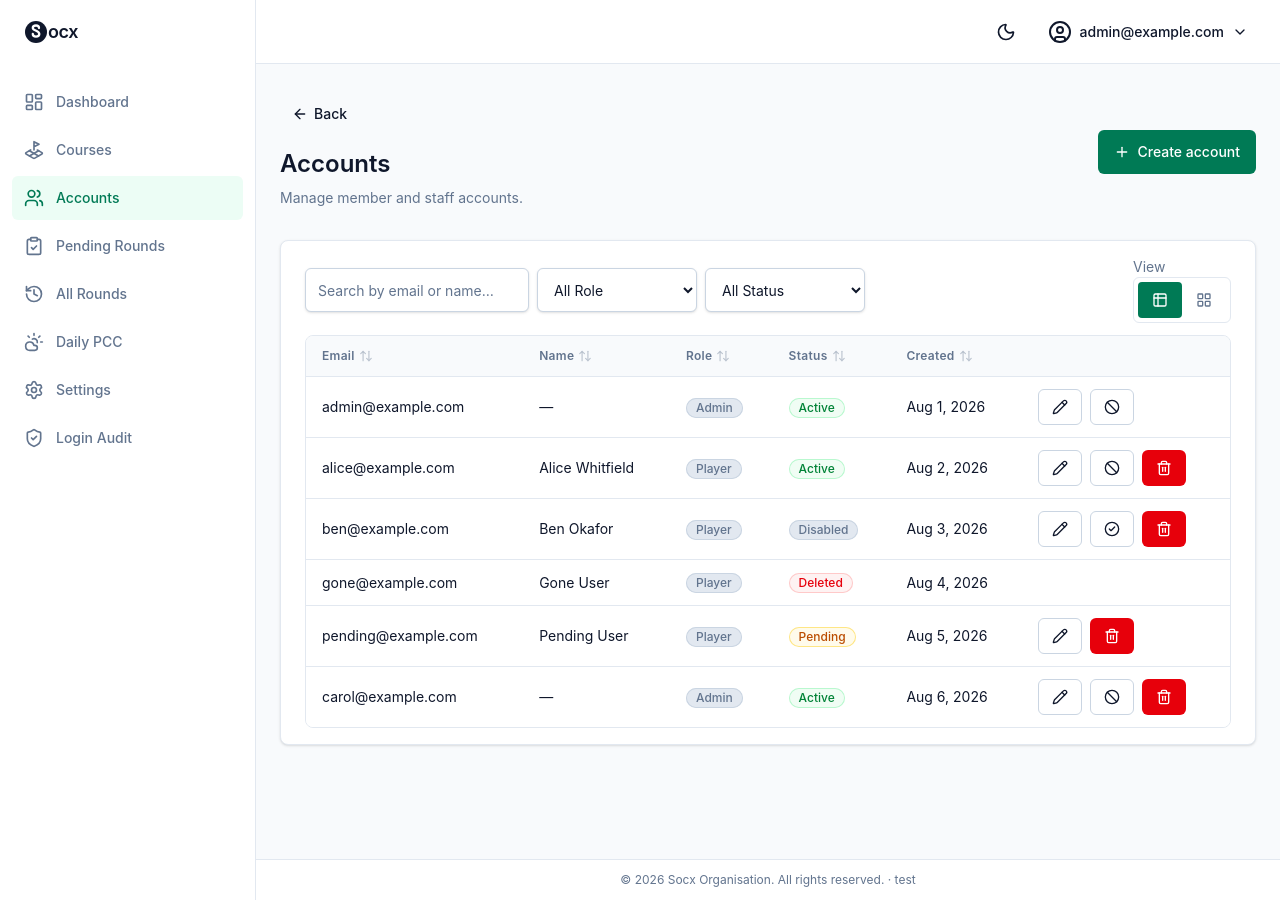
AdminAccountsPage › Edit account (ghs#191) › a super_admin editing another admin/super_admin's row sees a role selector, and submitting sends the selected role
Check: the text "carol@example.com" is shown, box [306, 666, 523, 727]
Click the button named "Edit carol@example.com".
click(1060, 697)  # box [1038, 679, 1082, 715]
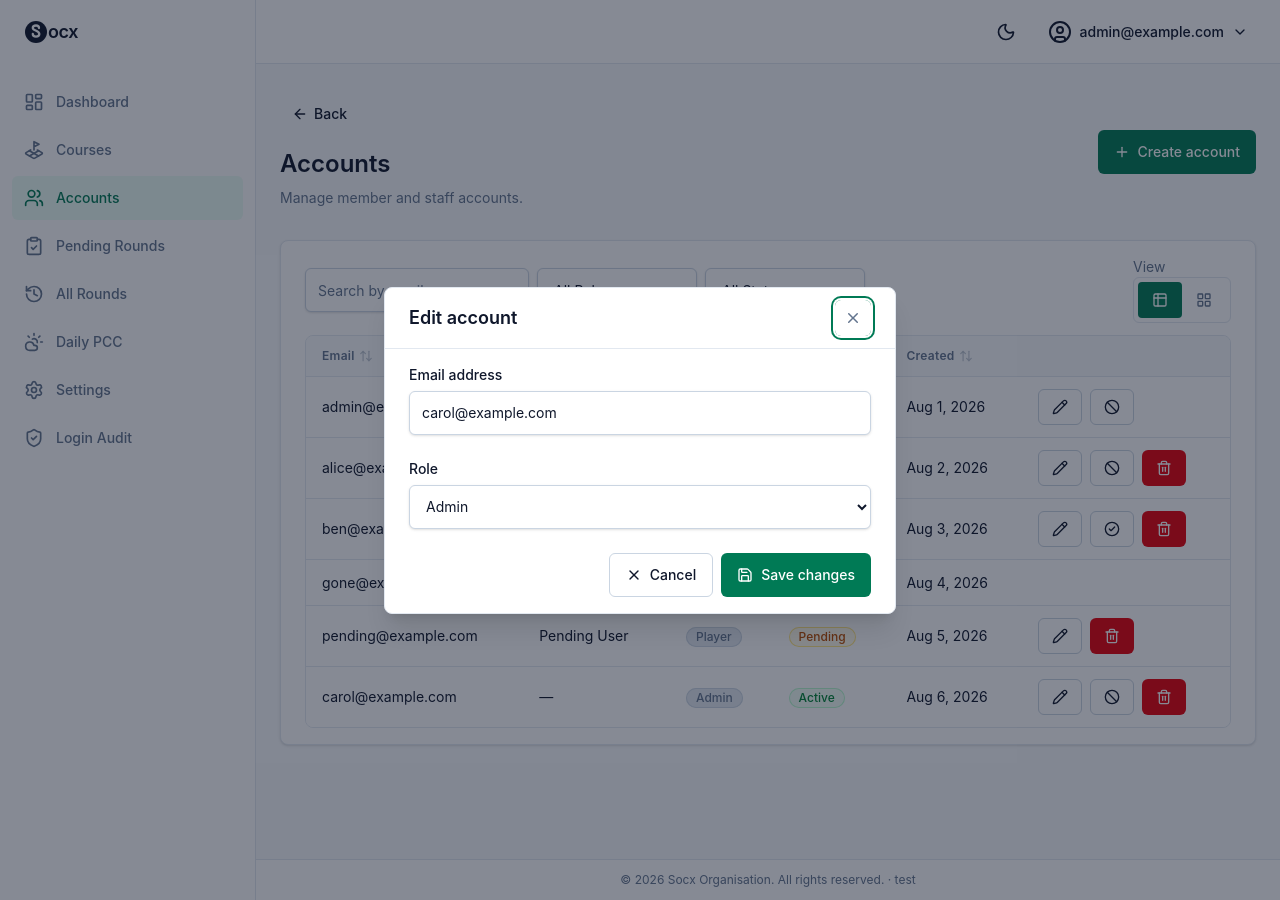
Check: the dropdown labelled "Role" shows "Admin"
Select "Super admin" in the dropdown labelled "Role" at (640, 506), box [409, 484, 871, 528]
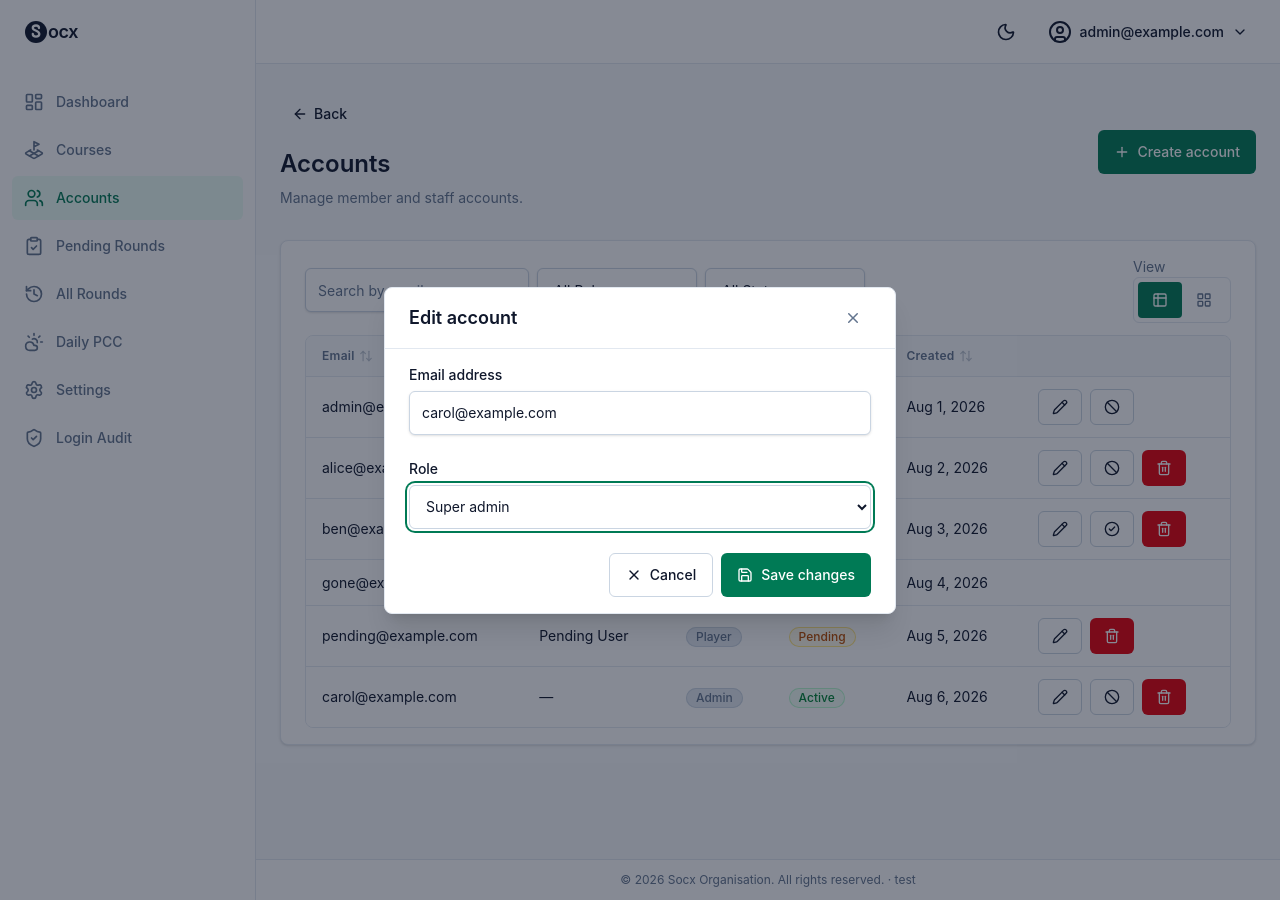
Click the button "Save changes".
click(796, 574)  # box [721, 552, 871, 596]
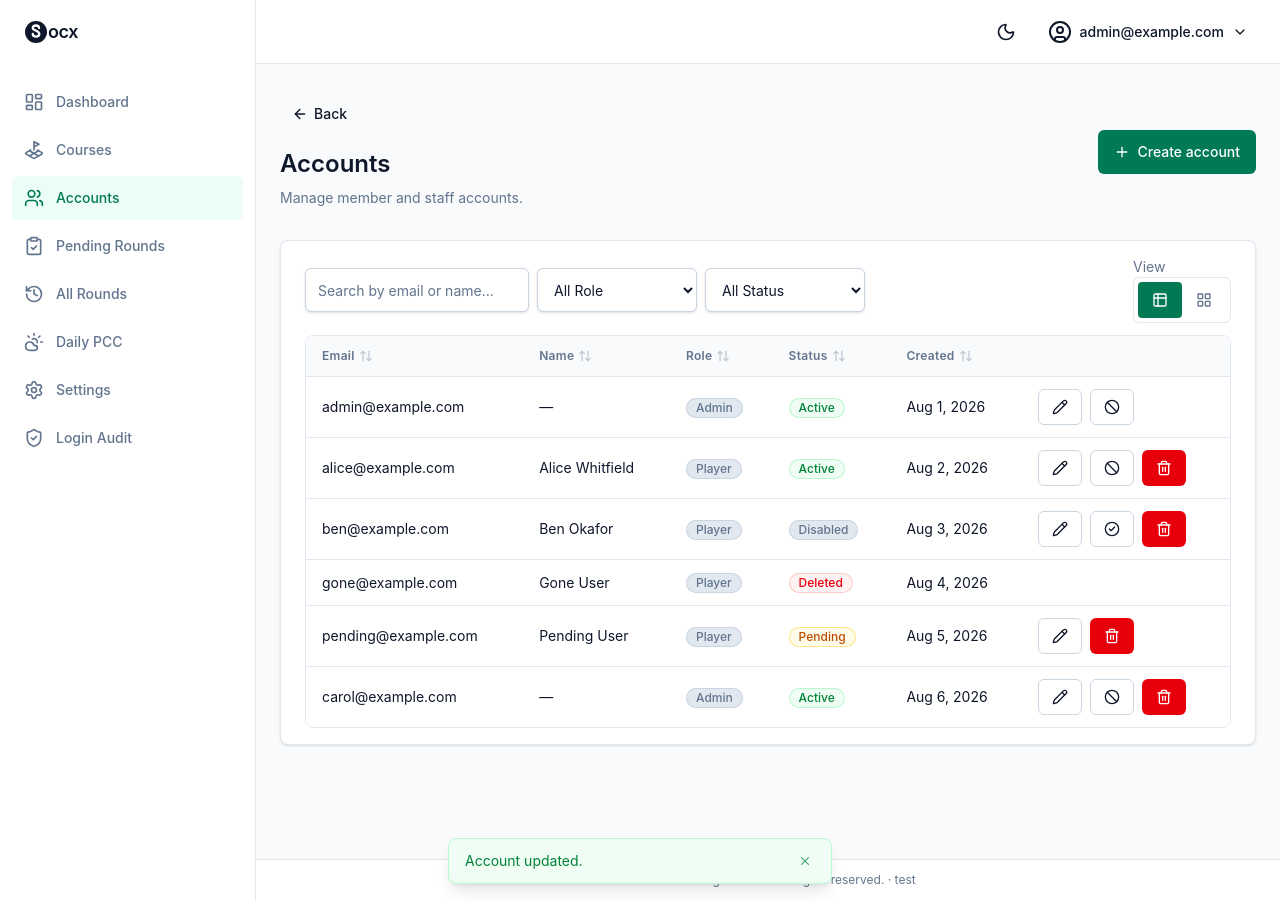
Check: the text "Account updated." is shown, box [465, 852, 583, 869]
Check: the dialog is gone
